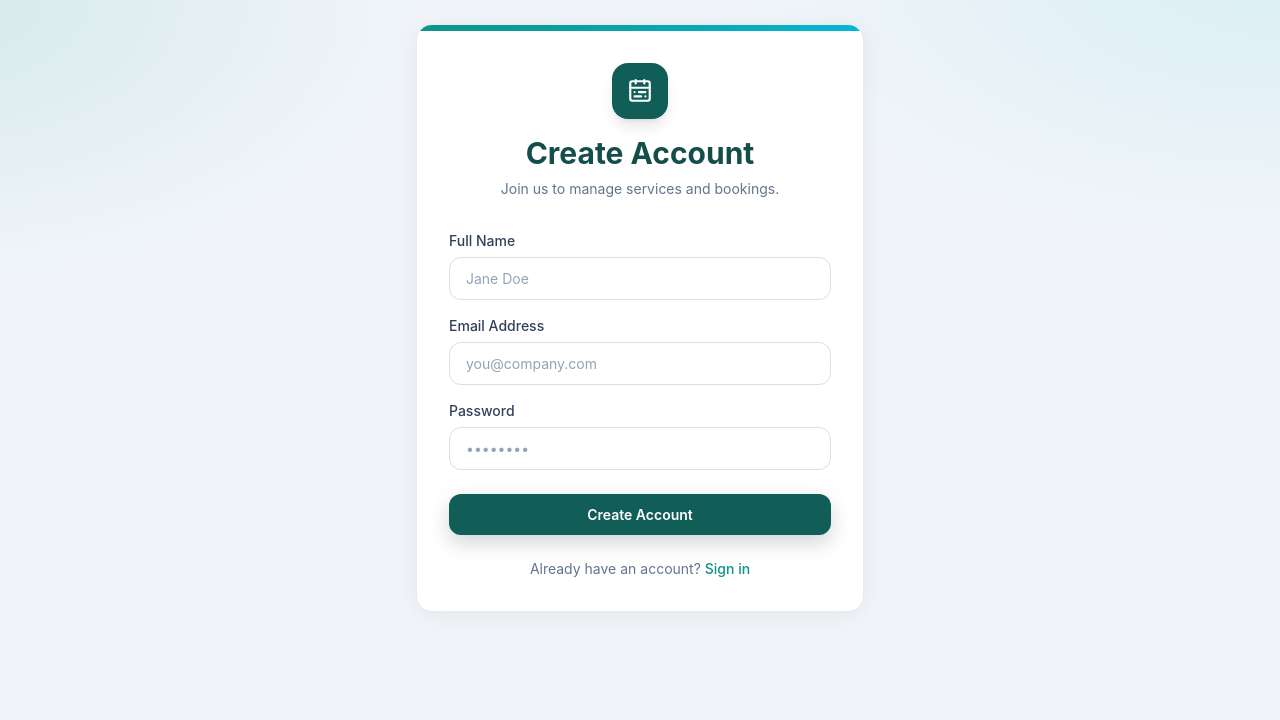
Register Page › shows error on failed registration
Type "Alice" into the field labelled "Full Name" at (640, 278), box x1=449 y1=257 x2=831 y2=300
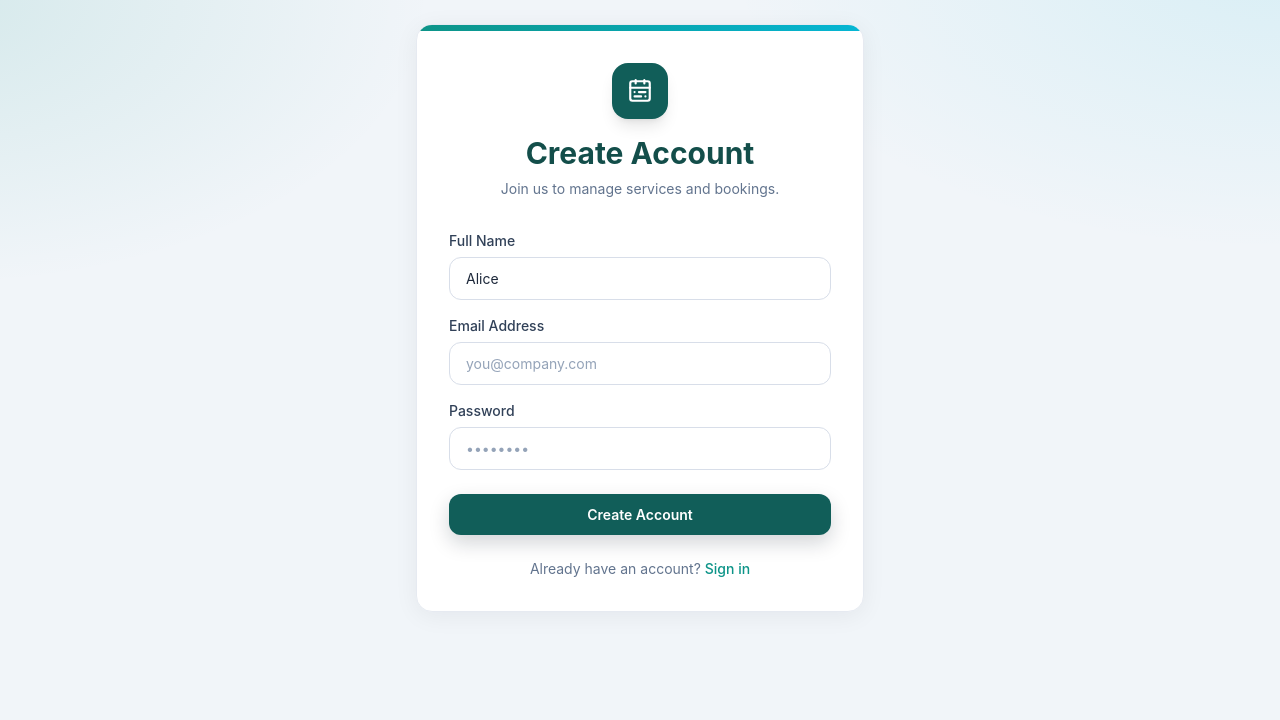
Type "alice@test.com" into the field labelled "Email Address" at (640, 364), box x1=449 y1=342 x2=831 y2=385
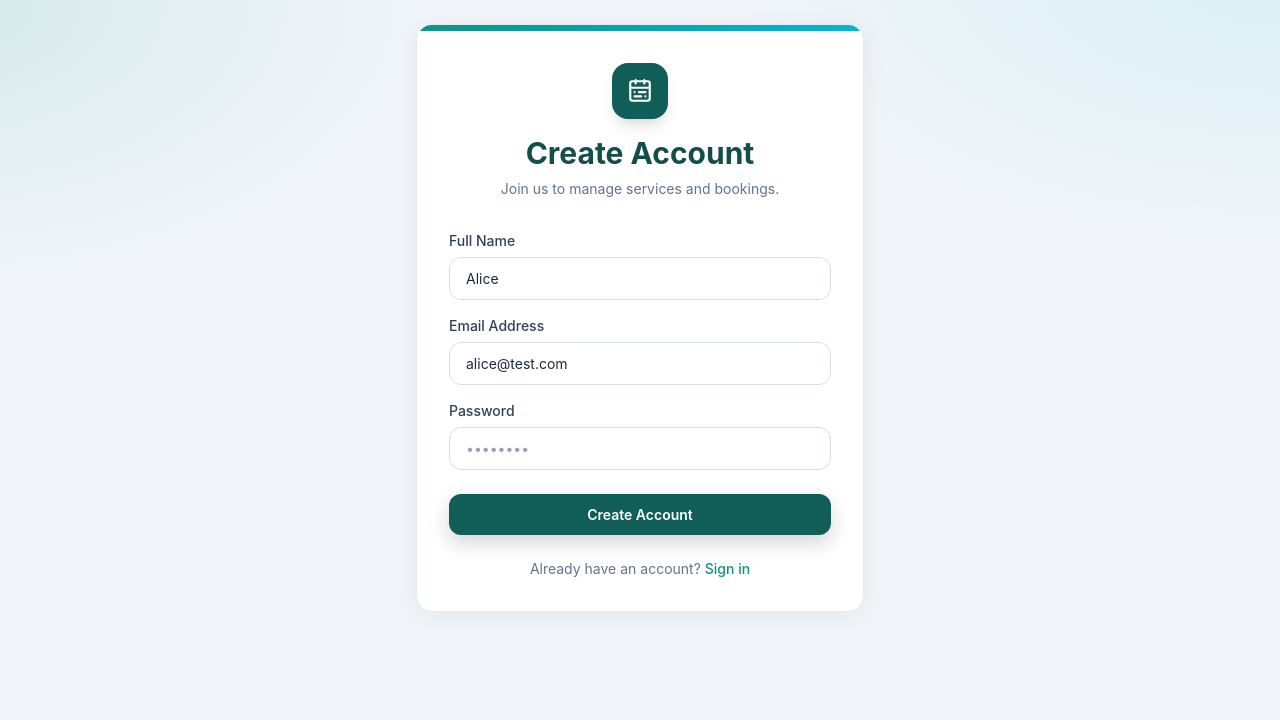
Type "pass123" into the password field labelled "Password" at (640, 448), box x1=449 y1=427 x2=831 y2=470
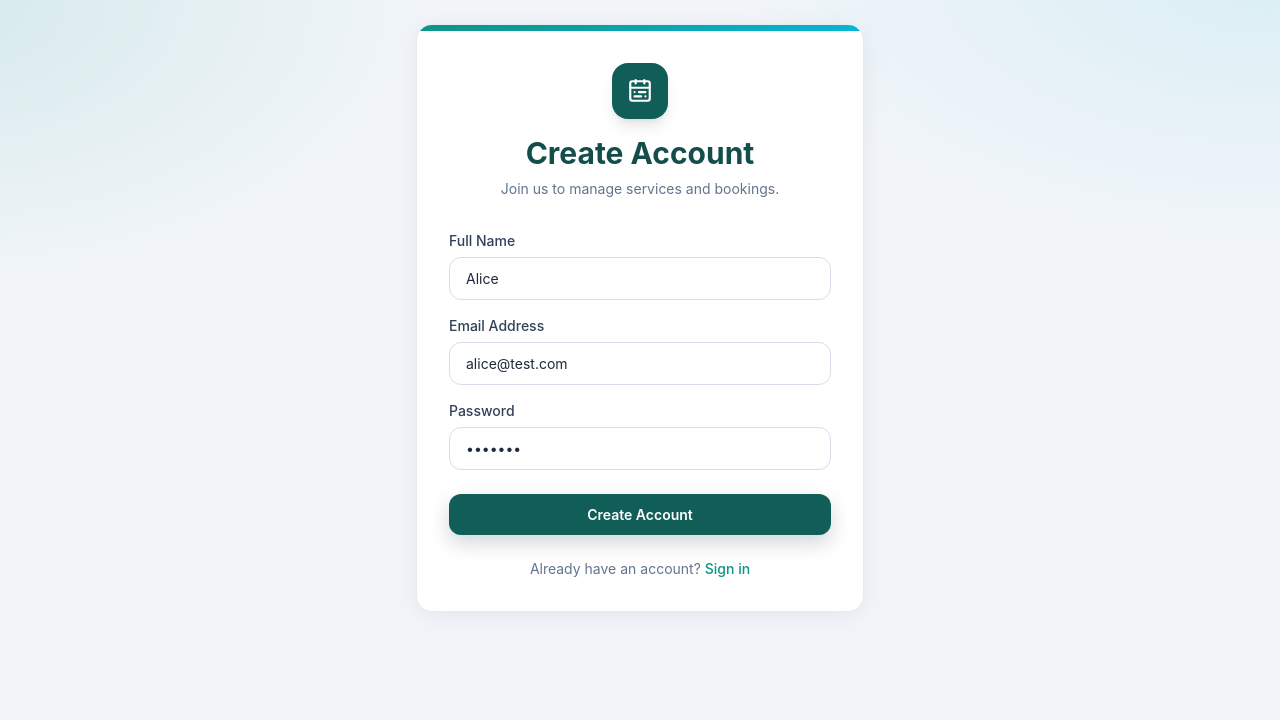
Click the button "Create Account" at (640, 514), box x1=449 y1=494 x2=831 y2=535
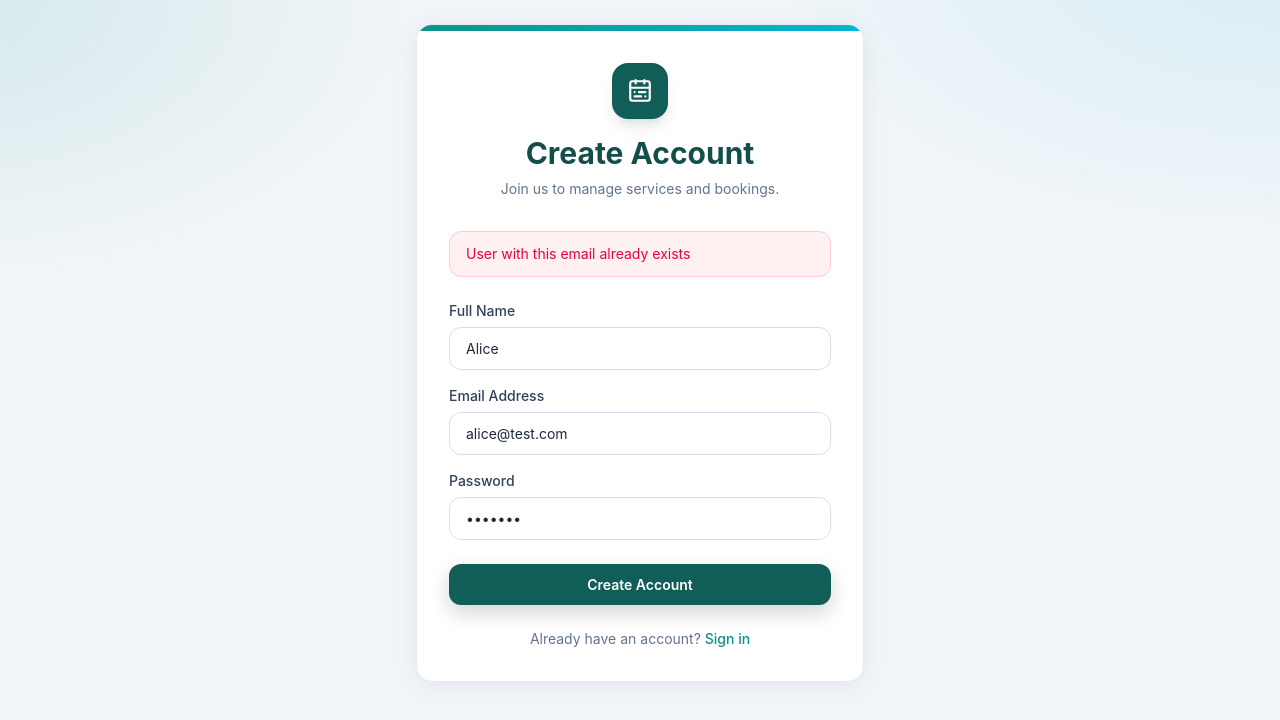
Expected: the text "User with this email already exists" is shown, x1=449 y1=231 x2=831 y2=277
